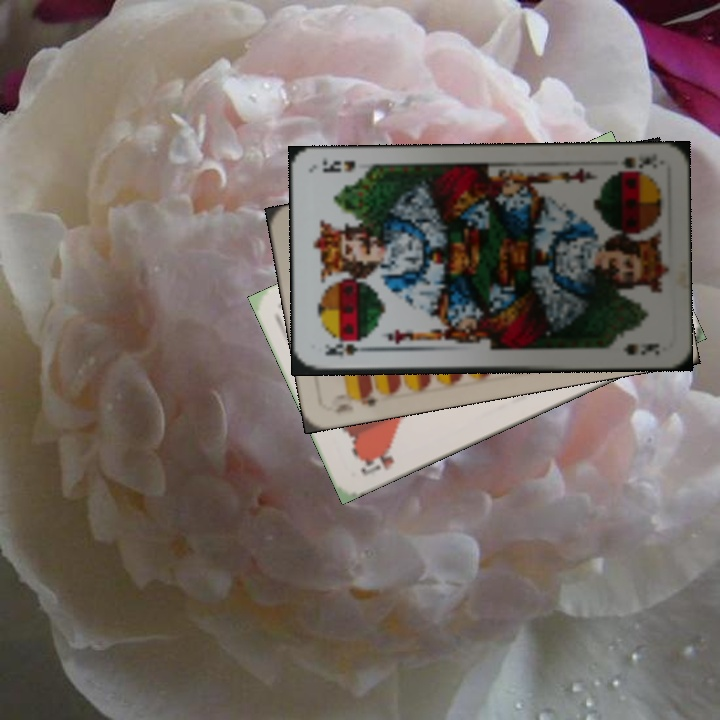E10: (345, 385, 380, 410)
HO: (356, 443, 397, 479)
SK: (605, 149, 660, 177), (320, 339, 375, 359)
